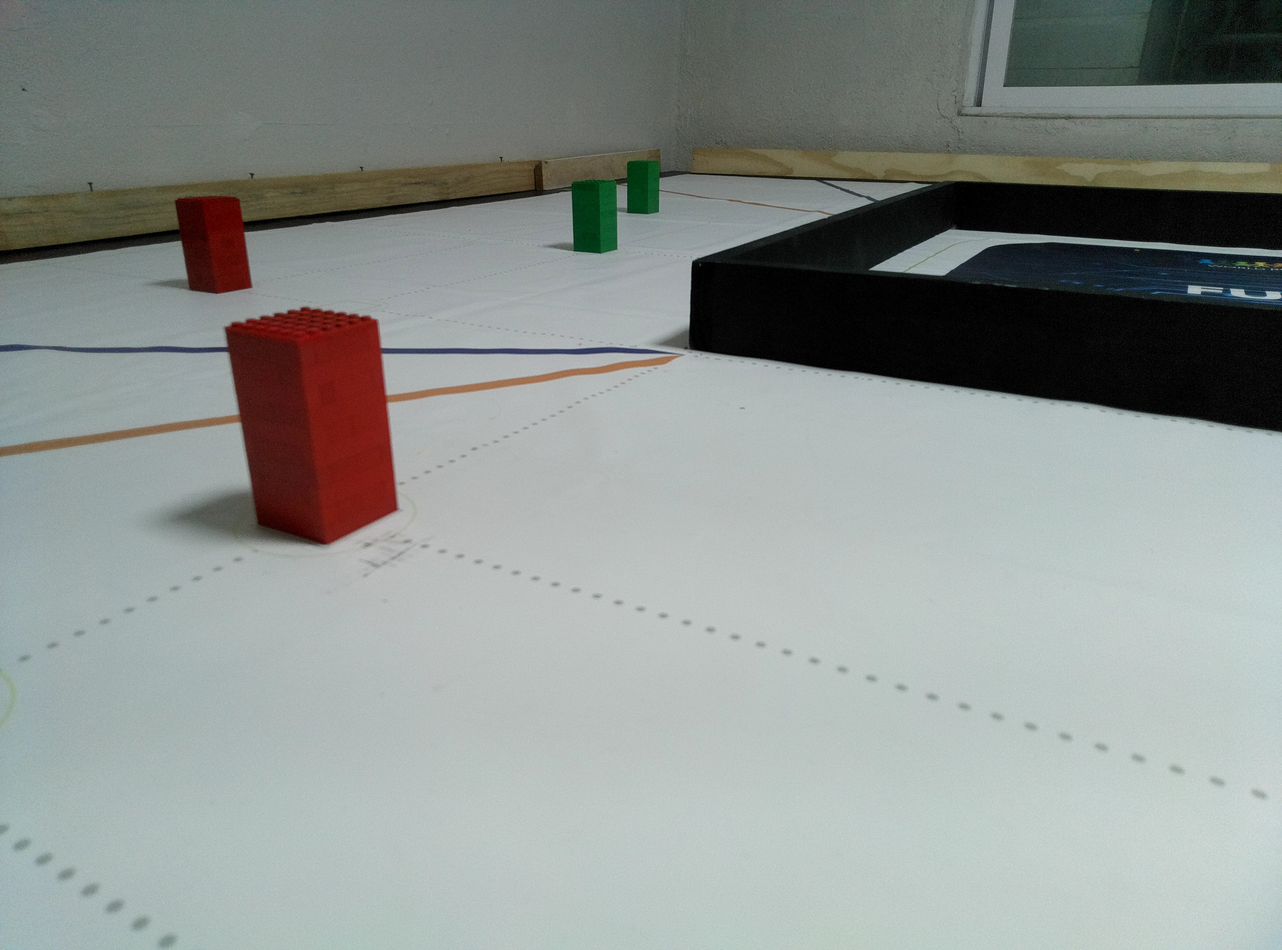greenbox: (571, 179, 619, 254), (627, 160, 660, 215)
redbox: (220, 307, 405, 547), (175, 196, 254, 295)
